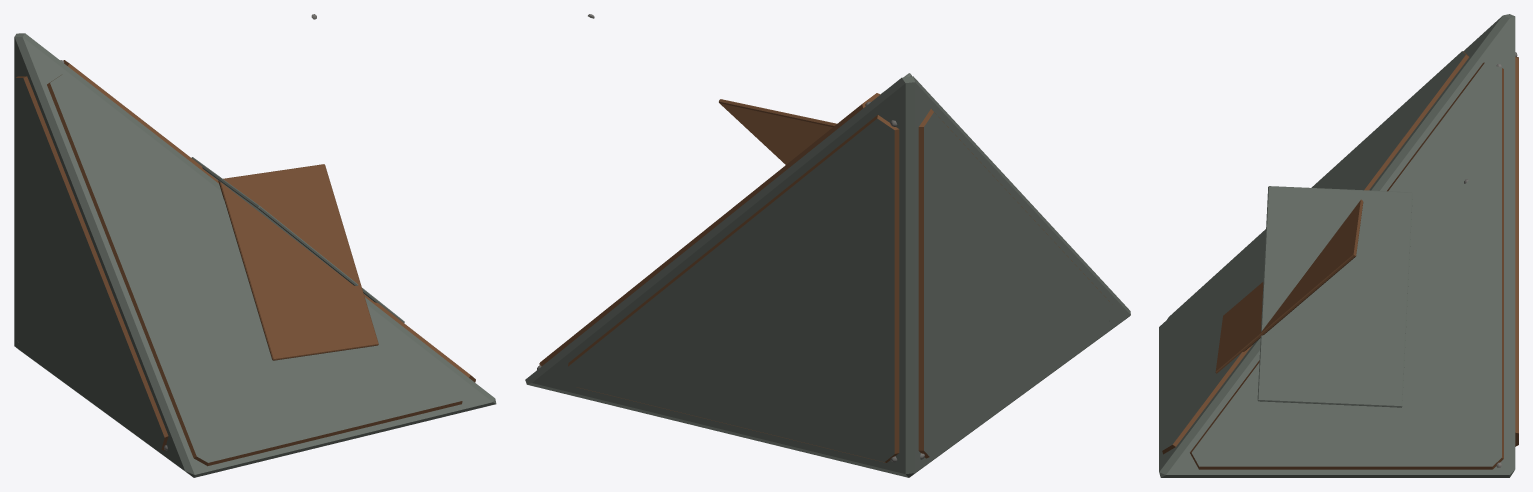
The model's file is R4B_CornerWedge.fbx.
3 views of the same model, side by side, from view 1: azimuth 30°, elevation 25°; view 2: azimuth 150°, elevation 25°; view 3: azimuth 270°, elevation 25° (orthographic). The views are drawn at different scales.
Parts seen in each view (by area): view 1: R4B_CornerWedge; view 2: R4B_CornerWedge; view 3: R4B_CornerWedge.
Boxes of the visible parts, x1,y1,x2,y2 form: R4B_CornerWedge: [14, 14, 496, 477]; R4B_CornerWedge: [525, 14, 1130, 477]; R4B_CornerWedge: [1159, 14, 1518, 477].
Size of the model in its own units: 0.5025 by 0.4907 by 0.5025.
